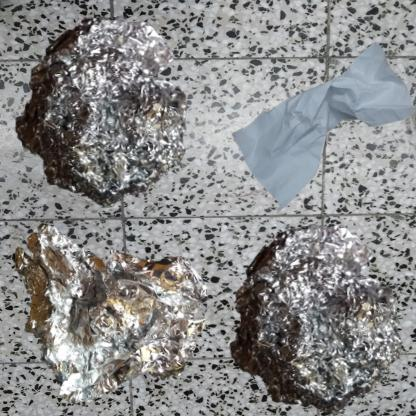aluminio: (213, 213, 414, 416), (10, 213, 216, 409), (10, 10, 193, 213)
papel: (213, 10, 416, 256)
